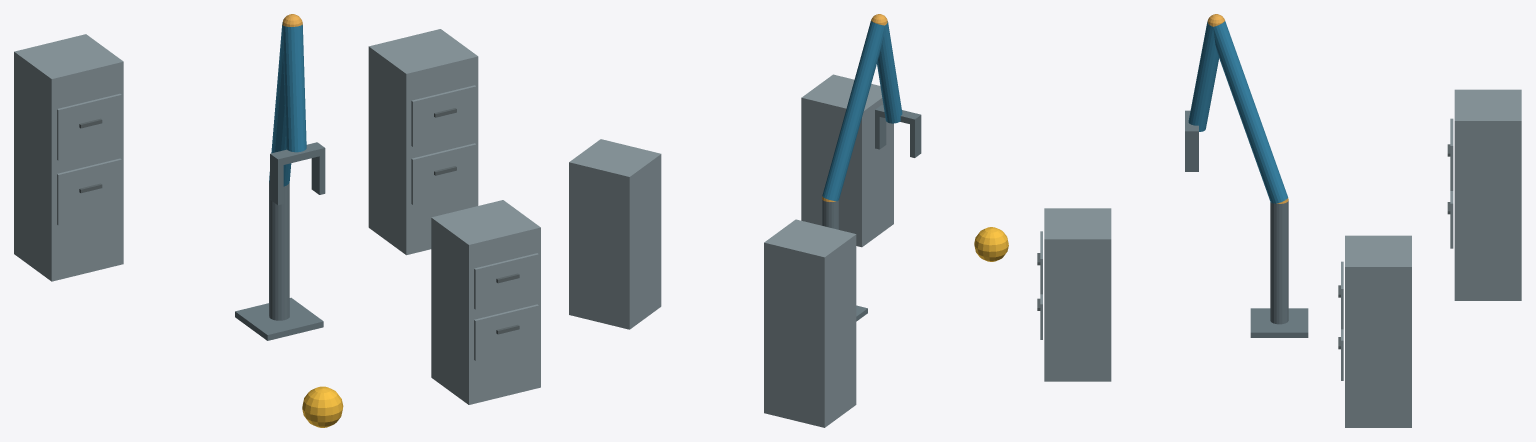
3 renders of one model, left to right at view 1: azimuth 30°, elevation 25°; view 2: azimuth 150°, elevation 25°; view 3: azimuth 270°, elevation 25°, orthographic. The views are drawn at different scales.
Visible parts, largest first — view 1: cabinet_3 body, cabinet_2 body, cabinet_1 body, cabinet_3 drawer front, cabinet_3 drawer front.001, cabinet_2 drawer front, cabinet_2 drawer front.001, moving link 2, cabinet_1 drawer front, cabinet_1 drawer front.001, fixed post, pedestal (+5 smaller); view 2: cabinet_3 body, cabinet_2 body, cabinet_1 body, moving link 1, moving link 2, ball ball_1, fixed post; view 3: cabinet_3 body, cabinet_2 body, cabinet_1 body, moving link 1, fixed post, moving link 2, pedestal, gripper finger 1.
Part boxes in pixels (left/top/right/bottom): cabinet_3 body: left=14, top=34, right=123, bottom=281; cabinet_2 body: left=368, top=29, right=478, bottom=255; cabinet_1 body: left=431, top=200, right=540, bottom=404; cabinet_3 drawer front: left=57, top=158, right=121, bottom=225; cabinet_3 drawer front.001: left=57, top=93, right=121, bottom=160; cabinet_2 drawer front: left=411, top=143, right=476, bottom=204; cabinet_2 drawer front.001: left=411, top=85, right=476, bottom=146; moving link 2: left=282, top=24, right=306, bottom=152; cabinet_1 drawer front: left=474, top=304, right=538, bottom=360; cabinet_1 drawer front.001: left=474, top=253, right=538, bottom=309; fixed post: left=269, top=180, right=289, bottom=320; pedestal: left=235, top=297, right=323, bottom=340; cabinet_3 body: left=764, top=219, right=856, bottom=427; cabinet_2 body: left=569, top=139, right=661, bottom=329; cabinet_1 body: left=801, top=74, right=893, bottom=247; moving link 1: left=822, top=21, right=884, bottom=201; moving link 2: left=877, top=21, right=902, bottom=123; ball ball_1: left=974, top=227, right=1008, bottom=261; fixed post: left=822, top=199, right=839, bottom=229; cabinet_3 body: left=1454, top=89, right=1521, bottom=300; cabinet_2 body: left=1345, top=235, right=1411, bottom=427; cabinet_1 body: left=1044, top=208, right=1111, bottom=381; moving link 1: left=1213, top=21, right=1287, bottom=203; fixed post: left=1270, top=201, right=1288, bottom=324; moving link 2: left=1188, top=22, right=1218, bottom=131; pedestal: left=1250, top=308, right=1308, bottom=337; gripper finger 1: left=1185, top=137, right=1198, bottom=171.
Size of the model in its own units: 1.62 by 1.44 by 2.1.
